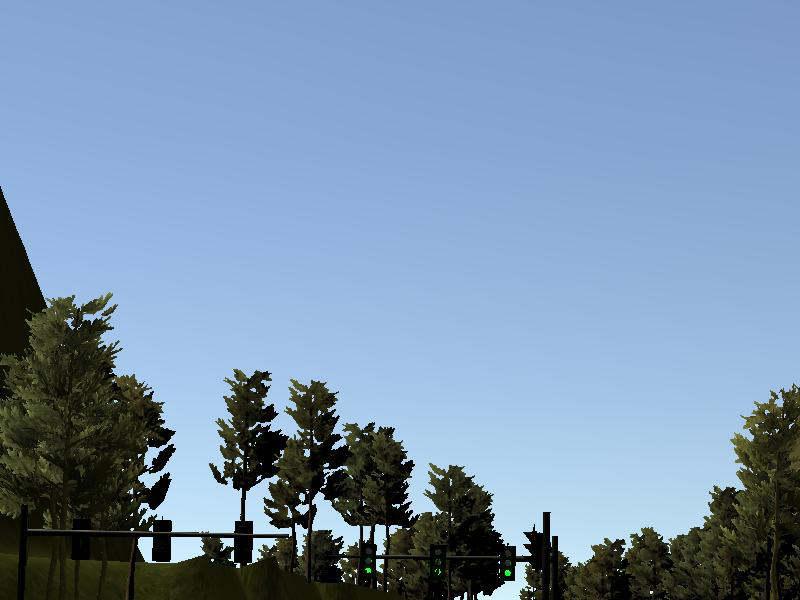green: (430, 545, 446, 585), (361, 545, 376, 582), (501, 545, 516, 581)
